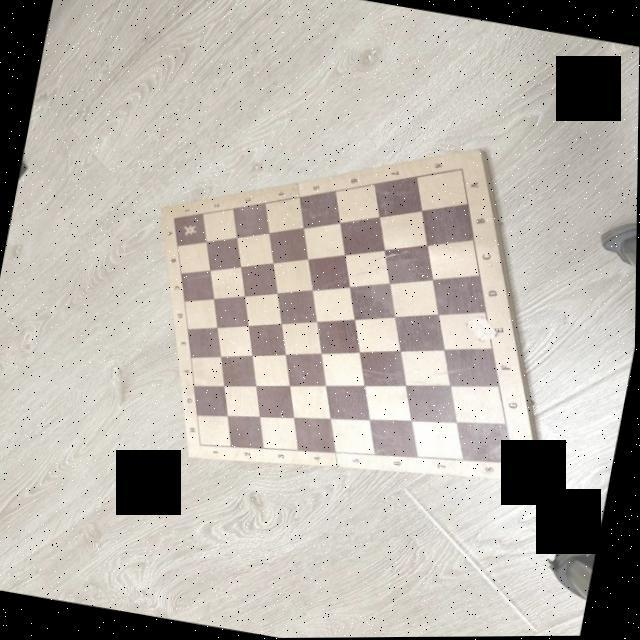chess-table-corners: (456, 163, 468, 176), (506, 459, 522, 468), (169, 216, 178, 222), (197, 442, 204, 448)
